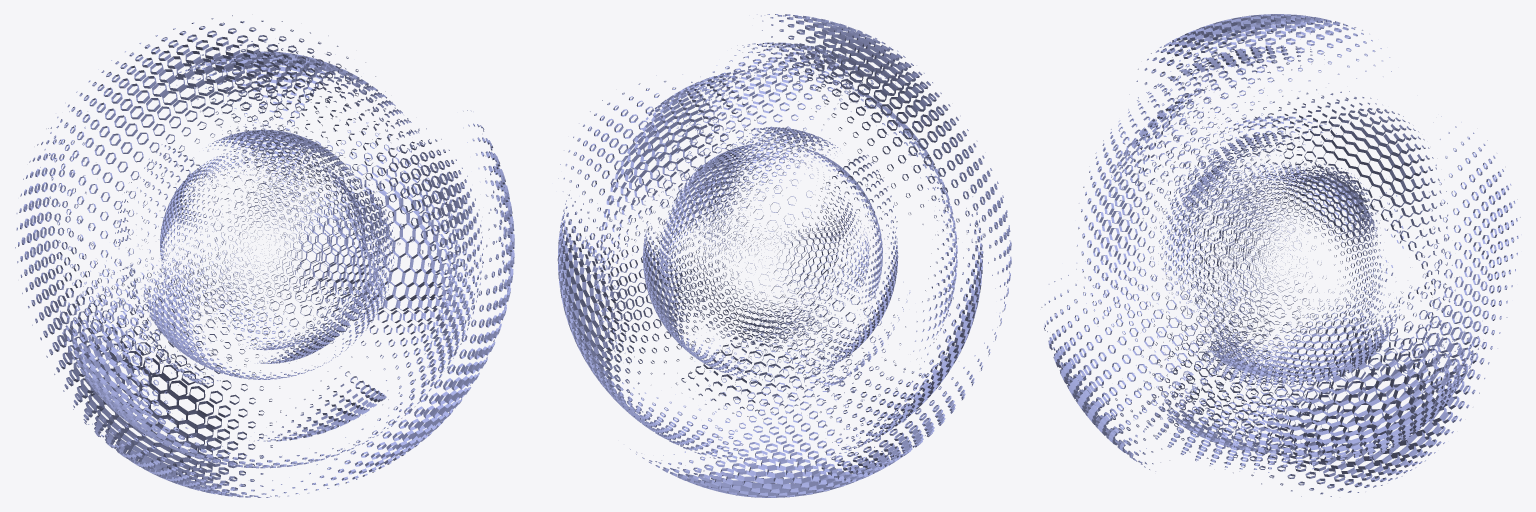
The model's file is ball_lite.glb.
The picture shows the model from 3 angles, left to right: view 1: azimuth 30°, elevation 25°; view 2: azimuth 150°, elevation 25°; view 3: azimuth 270°, elevation 25°; orthographic projection. The views are drawn at different scales.
Parts seen in each view (by area): view 1: Plane_Material.001_0.002, Plane_Material.001_0.003; view 2: Plane_Material.001_0.002, Plane_Material.001_0.003; view 3: Plane_Material.001_0.002, Plane_Material.001_0.003.
Part boxes in pixels (x1=…): Plane_Material.001_0.002: x1=15, y1=15, x2=514, y2=497; Plane_Material.001_0.003: x1=140, y1=122, x2=395, y2=379; Plane_Material.001_0.002: x1=557, y1=14, x2=1011, y2=497; Plane_Material.001_0.003: x1=643, y1=127, x2=898, y2=379; Plane_Material.001_0.002: x1=1041, y1=14, x2=1521, y2=496; Plane_Material.001_0.003: x1=1158, y1=132, x2=1400, y2=389.
Bounding box in the file's own units: 1.99 × 2 × 1.96.
